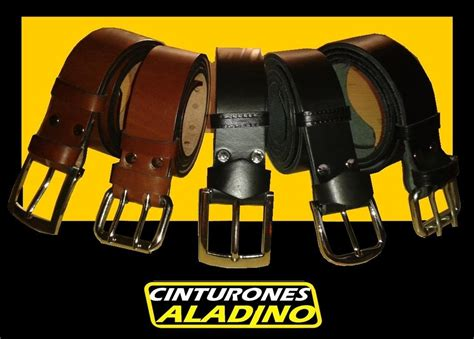cuero: (14, 26, 463, 213)
